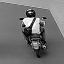motor: (19, 7, 50, 58)
